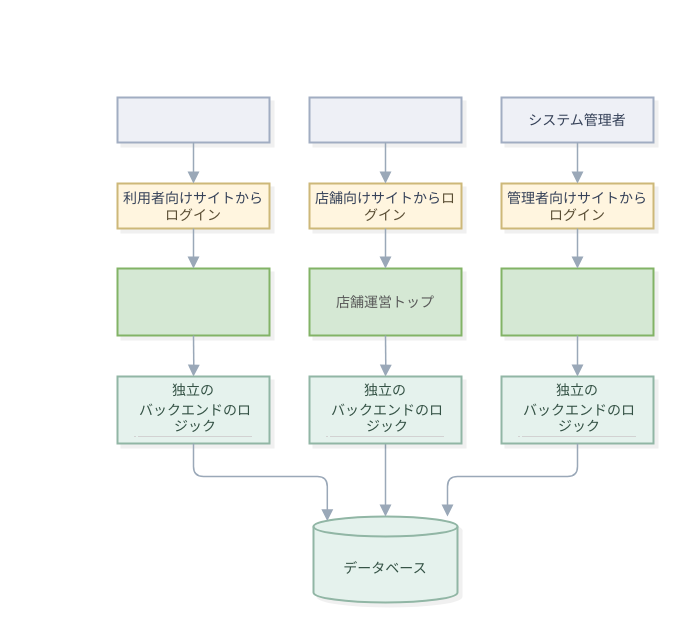
Some shapes in this 675 by 624 pixel diagram are drawn without their labels. Each missing label, with the centre of its shape:
"システム管理トップ" goes at (x=579, y=303).
"一般利用者" goes at (x=195, y=121).
"一般利用者向けホームページ" goes at (x=195, y=303).
"店舗運営者" goes at (x=387, y=121).
